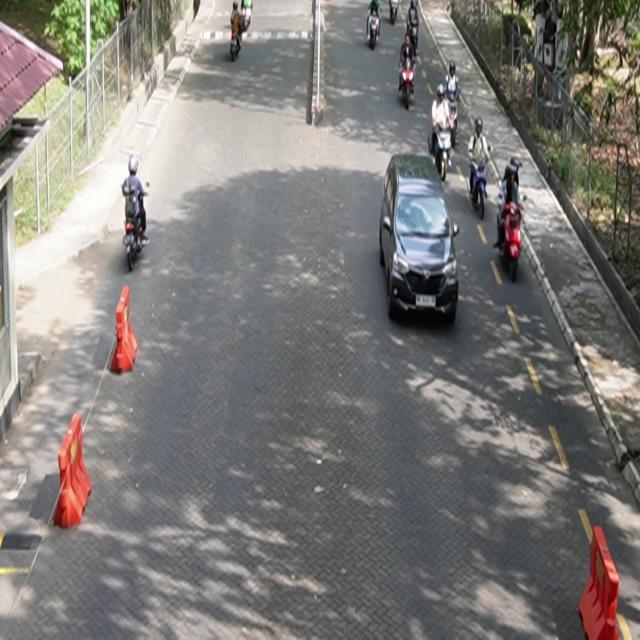car: (380, 153, 461, 326)
